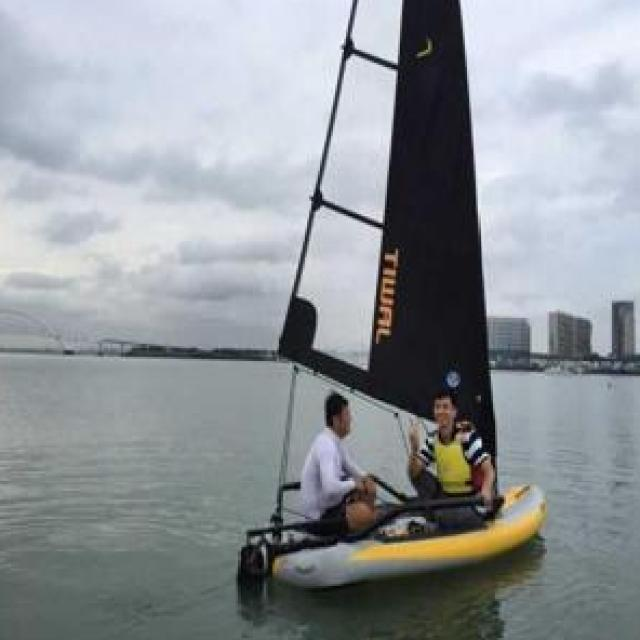sailboat: (236, 0, 551, 584)
